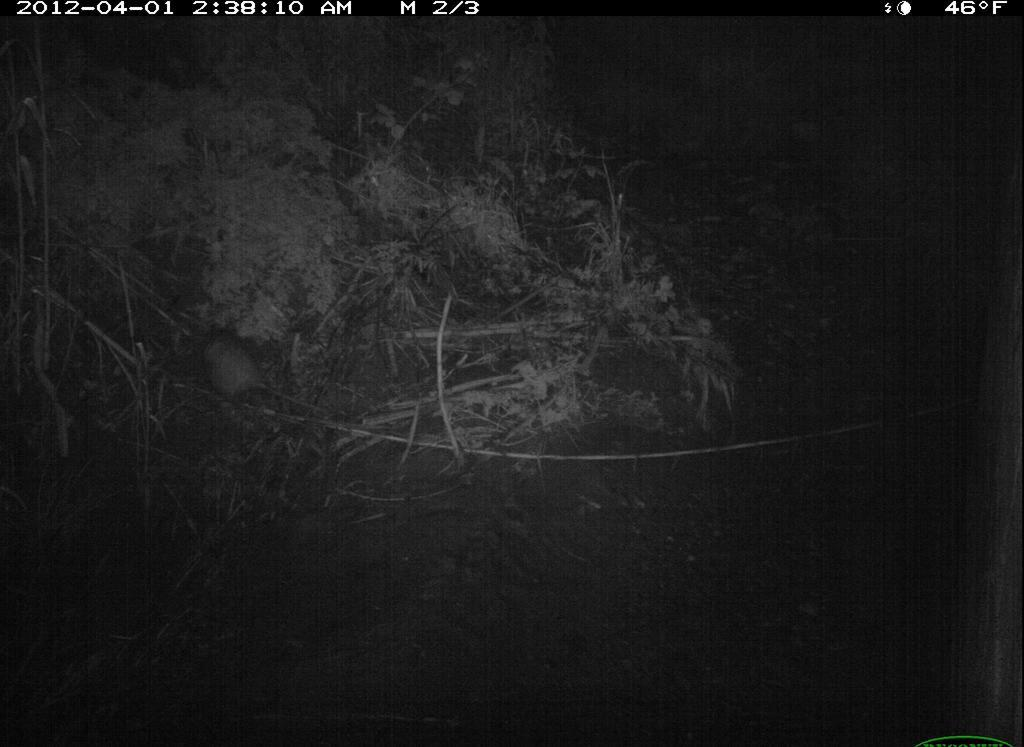opossum: (195, 326, 278, 409)
